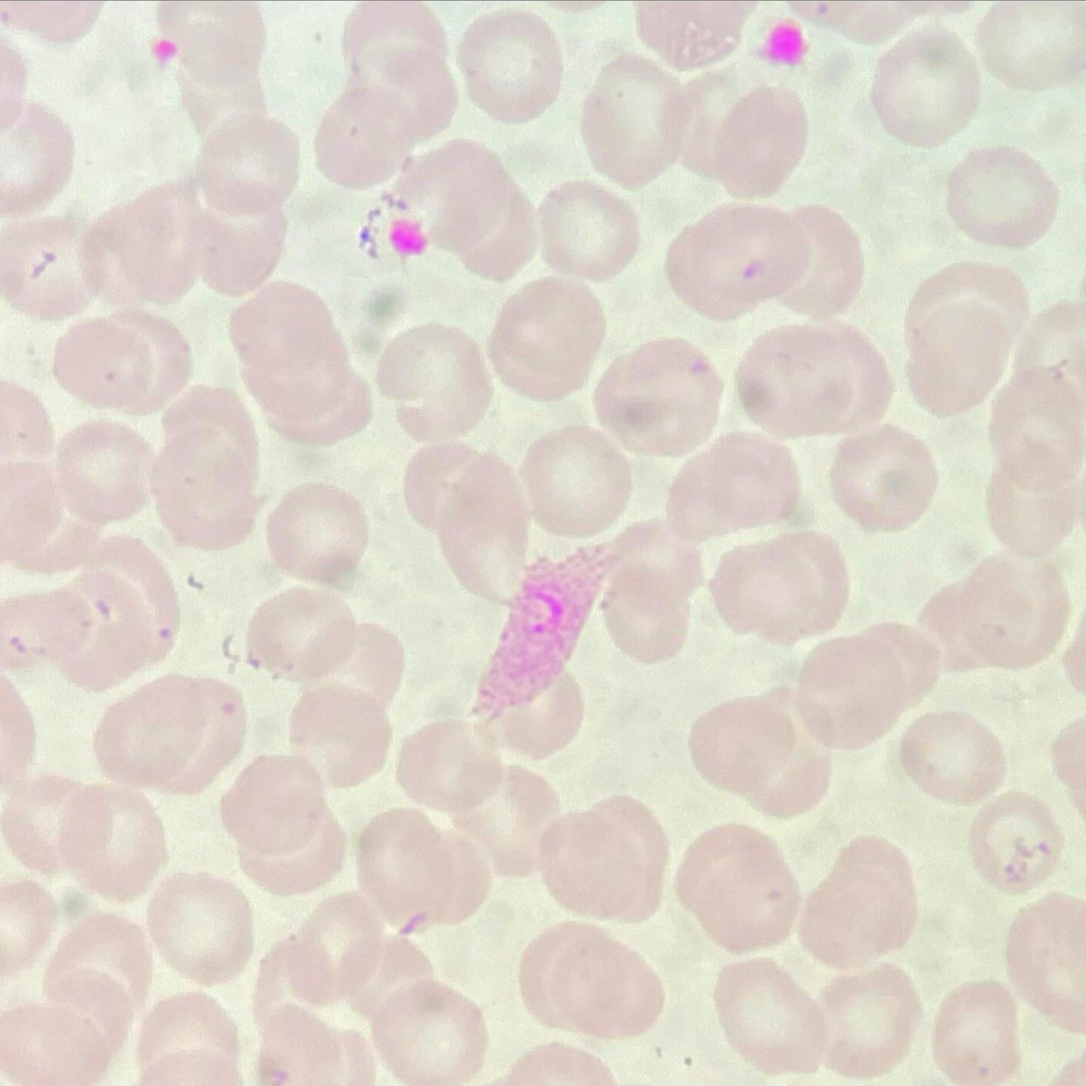Infected: (471, 536, 637, 712)
Uninfected: (384, 140, 535, 283), (402, 441, 531, 602), (903, 263, 1032, 416), (733, 321, 892, 442), (94, 675, 247, 798), (792, 622, 936, 750), (921, 554, 1066, 678), (219, 754, 349, 892), (685, 693, 827, 819), (516, 920, 661, 1041), (674, 820, 806, 952), (533, 795, 668, 924), (355, 805, 492, 932), (665, 203, 812, 321), (708, 526, 849, 644), (80, 183, 211, 310), (152, 407, 267, 549), (797, 835, 917, 970), (663, 430, 801, 546), (591, 336, 722, 457), (865, 23, 984, 155), (51, 309, 189, 420), (594, 521, 702, 662), (488, 275, 606, 401), (49, 564, 155, 701), (688, 80, 810, 199), (710, 955, 829, 1075), (268, 900, 389, 1017), (580, 55, 689, 184), (50, 782, 169, 900), (375, 322, 492, 441), (315, 79, 441, 189), (156, 1, 270, 113), (810, 964, 917, 1082), (243, 584, 365, 687), (518, 426, 631, 537), (0, 454, 102, 576), (338, 3, 455, 109), (143, 873, 254, 983), (827, 425, 937, 535), (367, 980, 485, 1082), (285, 685, 396, 793), (456, 9, 563, 120), (943, 146, 1056, 251), (52, 417, 158, 528), (228, 279, 336, 387), (46, 920, 154, 1023), (263, 483, 368, 587), (193, 115, 300, 217), (189, 194, 292, 299), (394, 718, 505, 815), (535, 180, 639, 283), (999, 371, 1086, 494), (1004, 895, 1084, 1028), (466, 764, 562, 872), (971, 1, 1086, 90), (1, 211, 95, 319), (360, 931, 466, 1025), (964, 791, 1062, 892), (274, 349, 372, 449), (1, 1000, 116, 1085), (239, 326, 339, 423), (899, 709, 1002, 803), (253, 1005, 373, 1084), (135, 994, 245, 1080), (930, 980, 1019, 1083), (2, 778, 84, 883), (1, 106, 76, 217), (636, 4, 751, 75), (495, 668, 583, 757)
